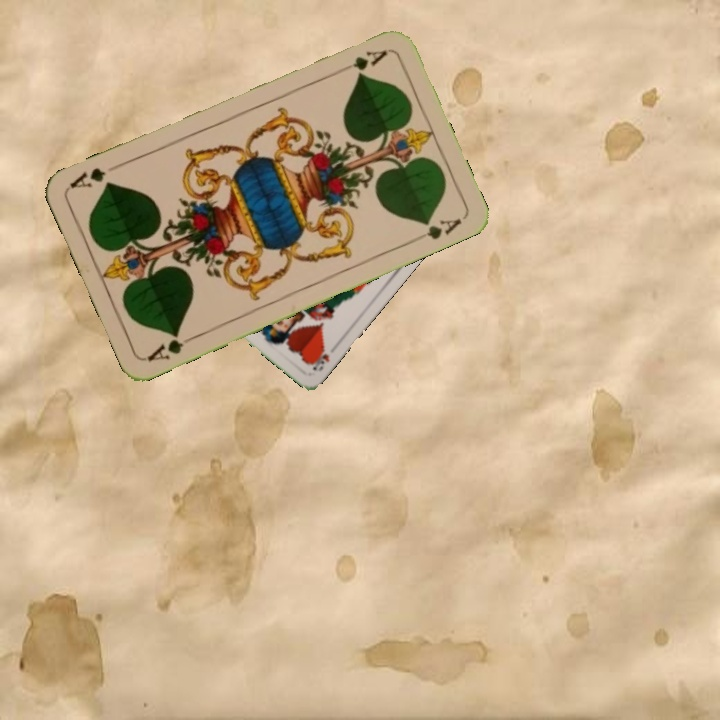GA: (144, 328, 200, 364), (334, 46, 391, 77)
HO: (307, 342, 332, 374)
